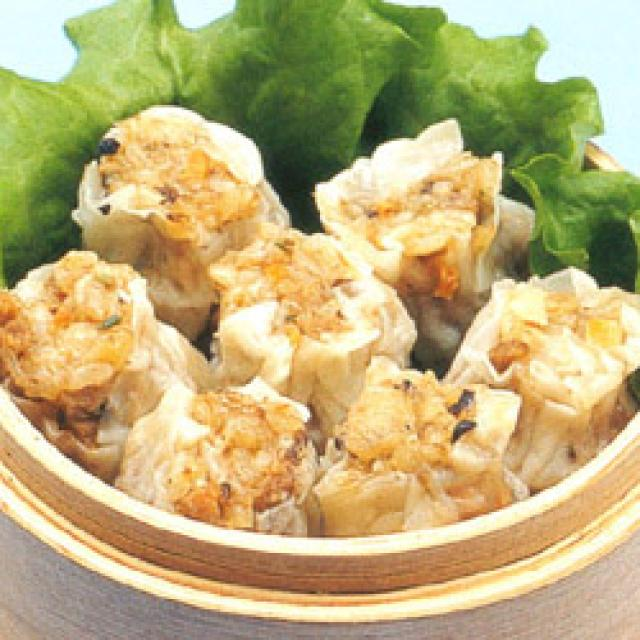带馅早点: (0, 95, 640, 532)
